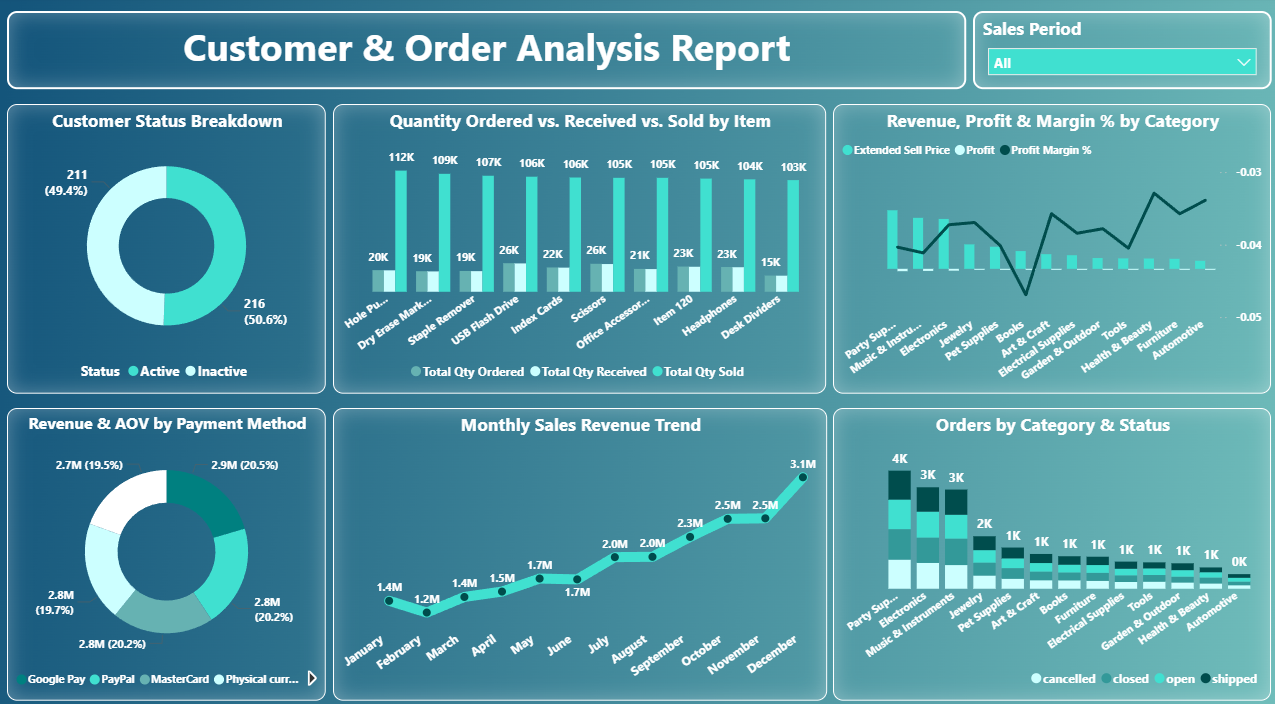

Layout of this report page (visuals, bound fields, positions):
{"tool":"powerbi","page":{"name":"Page 2","canvas":[1280,720],"ordinal":1},"visuals":[{"type":"lineClusteredColumnComboChart","title":"Revenue, Profit & Margin % by Category","fields":{"Category":["Category-Ref.cat_name"],"Y":["Category-Ref.Extended Sell Price","Category-Ref.Total profit"],"Y2":["Category-Ref.Profit Margin %"]},"box":[834,106.7,437,289.3],"z":0},{"type":"clusteredColumnChart","title":"Quantity Ordered vs. Received vs. Sold by Item","fields":{"Category":["Store-Items.item_details"],"Y":["Category-Ref.Total Qty Ordered","Category-Ref.Total Qty Received","Category-Ref.Total Qty Sold"]},"box":[335.2,106.7,491.8,289.3],"z":1000},{"type":"columnChart","title":"Orders by Category & Status","fields":{"Category":["Category-Ref.cat_name"],"Series":["Sales-Details.status"],"Y":["Category-Ref.Total Orders"]},"box":[834,410,437,292.3],"z":2000},{"type":"donutChart","title":"Revenue & AOV by Payment Method","fields":{"Category":["Payment.payment_name"],"Y":["Category-Ref.Total Sales Revenue"]},"box":[10,410,318.3,292.3],"z":3000},{"type":"donutChart","title":"Customer Status Breakdown","fields":{"Category":["Customer-details.customer_status"],"Y":["Count(Customer-details.customer_id)"]},"box":[10,106.7,318.3,289.3],"z":4000},{"type":"lineChart","title":"Monthly Sales Revenue Trend","fields":{"Y":["Category-Ref.Sales Revenue"],"Category":["Sales-Details.invoice_date.Variation.Date Hierarchy.Month"]},"box":[335.2,410,492.8,292.3],"z":5000},{"type":"textbox","box":[10.1,14.1,957.5,77.6],"z":6000},{"type":"slicer","title":"Sales Period","fields":{"Values":["DateTable.Sales Period"]},"box":[973.4,13.9,297.4,77.8],"z":6001}]}

Visuals, with their boxes in screenshot pixels (x1, y1, x2, y2), scaled from the page's 1280x720 canvas onto the 1275x704 screenshot:
"Revenue, Profit & Margin % by Category" lineClusteredColumnComboChart: <box>831,104,1266,387</box>
"Quantity Ordered vs. Received vs. Sold by Item" clusteredColumnChart: <box>334,104,824,387</box>
"Orders by Category & Status" columnChart: <box>831,401,1266,687</box>
"Revenue & AOV by Payment Method" donutChart: <box>10,401,327,687</box>
"Customer Status Breakdown" donutChart: <box>10,104,327,387</box>
"Monthly Sales Revenue Trend" lineChart: <box>334,401,825,687</box>
textbox: <box>10,14,964,90</box>
"Sales Period" slicer: <box>970,14,1266,90</box>
